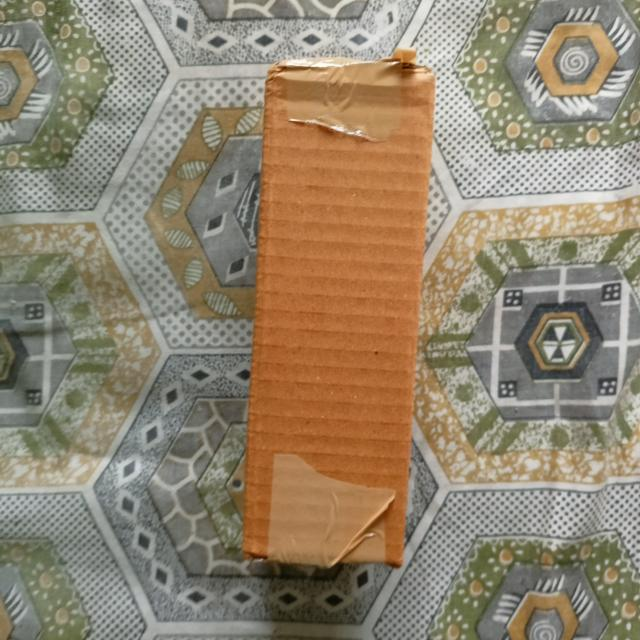box: (237, 50, 437, 573)
